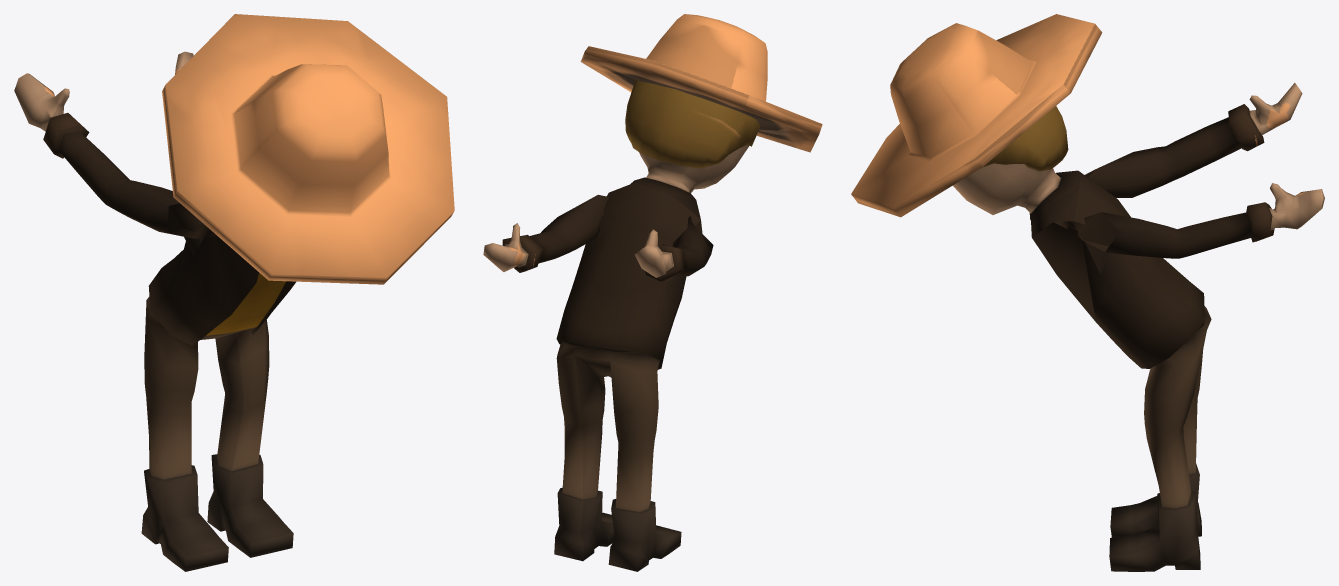
Rendered from justus.obj.
The picture shows the model from 3 angles, left to right: view 1: azimuth 30°, elevation 25°; view 2: azimuth 150°, elevation 25°; view 3: azimuth 270°, elevation 25°; orthographic projection. The views are drawn at different scales.
Visible parts, largest first — view 1: Character_Cube; view 2: Character_Cube; view 3: Character_Cube.
Part boxes in pixels (left/top/right/bottom): Character_Cube: left=14, top=14, right=454, bottom=571; Character_Cube: left=483, top=14, right=822, bottom=571; Character_Cube: left=851, top=14, right=1324, bottom=571.
Size of the model in its own units: 0.8627 by 1.66 by 1.38.
